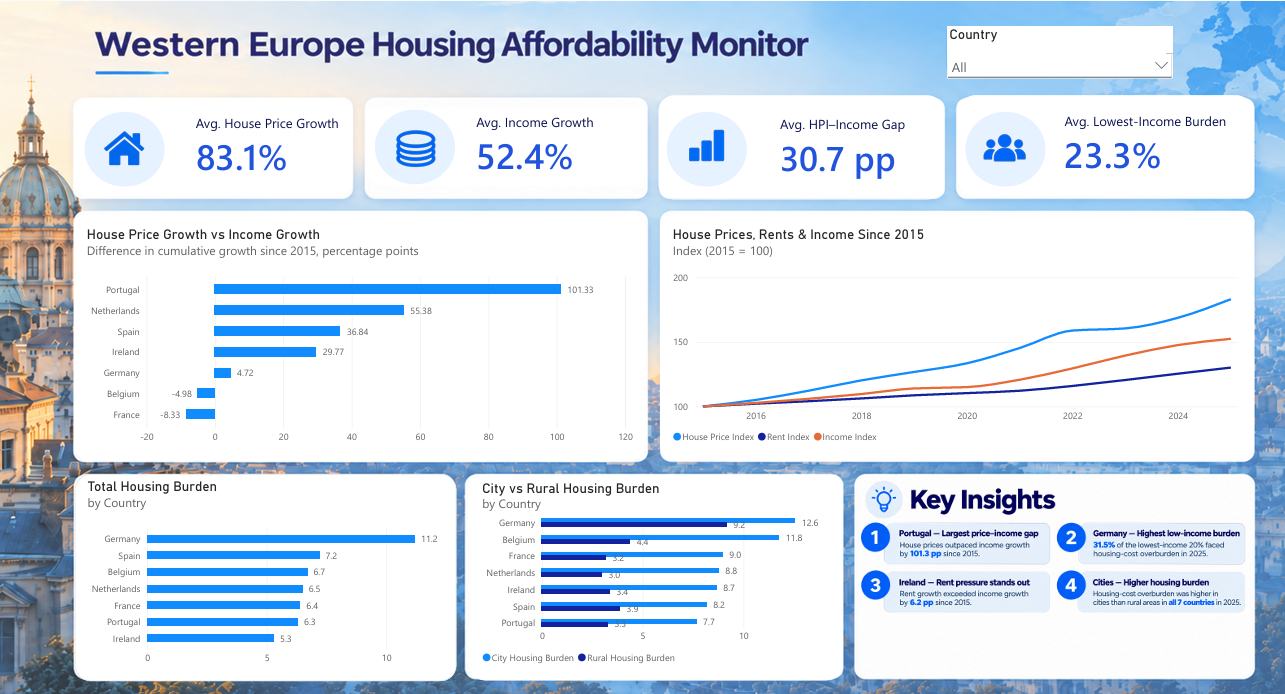

The dashboard page shown, as its layout file describes it:
{"tool":"powerbi","page":{"name":"Western Europe Housing Affordability Monitor","canvas":[1920,1080],"ordinal":0},"visuals":[{"type":"slicer","fields":{"Values":["Dim Country.Country"]},"box":[1360,141,307.6,63.8],"z":0},{"type":"clusteredBarChart","title":"House Price Growth vs Income Growth","fields":{"Category":["Dim Country.Country"],"Y":["Affordability Annual.HPI-Income Gap"]},"box":[210,358.8,756.2,323.8],"z":1000},{"type":"cardVisual","title":"   ","fields":{"Data":["Affordability Annual.Income Growth Display"]},"box":[596.5,205.3,370.6,115.9],"z":2000},{"type":"cardVisual","fields":{"Data":["Affordability Annual.HPI-Income Gap Display"]},"box":[982.8,201.2,377.2,138.1],"z":3000},{"type":"cardVisual","fields":{"Data":["Affordability Annual.Lowest 20% Burden Display"]},"box":[1378.8,201.2,391.2,132.5],"z":4000},{"type":"lineChart","title":"House Prices, Rents & Income Since 2015","fields":{"Category":["Dim Year.Year"],"Y":["Avg(Affordability Annual.hpi_2015_100)","Avg(Affordability Annual.rent_2015_100)","Avg(Affordability Annual.income_2015_100)"]},"box":[985,358.8,785,323.8],"z":5000},{"type":"clusteredBarChart","fields":{"Category":["Dim Country.Country"],"Y":["Burden by Income.Total Housing Burden"]},"box":[211.1,702.2,504.4,273.3],"z":6000},{"type":"clusteredBarChart","title":"City vs Rural Housing Burden","fields":{"Category":["Dim Country.Country"],"Y":["Burden by Urbanisation.City Housing Burden","Burden by Urbanisation.Rural Housing Burden"]},"box":[732.5,702.5,493.8,272.5],"z":7000},{"type":"cardVisual","fields":{"Data":["Burden by Income.HPI Growth Display"]},"box":[210,205,368.8,128.8],"z":8000},{"type":"shape","box":[223.8,222.5,105.8,99.2],"z":9000},{"type":"image","box":[223.8,236.2,105.7,64.3],"z":10000},{"type":"shape","box":[608.3,220,105.8,99.2],"z":11000},{"type":"image","box":[625.6,236.7,73.3,64.4],"z":12000},{"type":"shape","box":[993.8,222.5,105.8,99.2],"z":13000},{"type":"image","box":[1018.8,220,55.6,94.4],"z":14000},{"type":"shape","box":[1388.8,222.5,105.8,99.2],"z":15000},{"type":"image","box":[1406.2,220,70,97.5],"z":16000},{"type":"textbox","box":[134,12,419,150],"z":17000},{"type":"textbox","title":"Country","box":[1364.5,110,298.2,37.3],"z":18000},{"type":"textbox","box":[1252,716,518,54],"z":19000},{"type":"textbox","box":[781.7,520,265,81.7],"z":20000},{"type":"image","box":[1237.8,620,531.1,340],"z":21000}]}

Visuals, with their boxes on the page's 1920x1080 design canvas (x1, y1, x2, y2). These are canvas units, not pixel positions in the 1285x694 screenshot, which may show the page scaled, cropped or inside an application window:
slicer - Dim Country.Country: crop(1360, 141, 1668, 205)
"House Price Growth vs Income Growth" clusteredBarChart: crop(210, 359, 966, 683)
"   " cardVisual: crop(596, 205, 967, 321)
cardVisual - Affordability Annual.HPI-Income Gap Display: crop(983, 201, 1360, 339)
cardVisual - Affordability Annual.Lowest 20% Burden Display: crop(1379, 201, 1770, 334)
"House Prices, Rents & Income Since 2015" lineChart: crop(985, 359, 1770, 683)
clusteredBarChart - Dim Country.Country x Burden by Income.Total Housing Burden: crop(211, 702, 716, 976)
"City vs Rural Housing Burden" clusteredBarChart: crop(732, 702, 1226, 975)
cardVisual - Burden by Income.HPI Growth Display: crop(210, 205, 579, 334)
shape: crop(224, 222, 330, 322)
image: crop(224, 236, 330, 300)
shape: crop(608, 220, 714, 319)
image: crop(626, 237, 699, 301)
shape: crop(994, 222, 1100, 322)
image: crop(1019, 220, 1074, 314)
shape: crop(1389, 222, 1495, 322)
image: crop(1406, 220, 1476, 318)
textbox: crop(134, 12, 553, 162)
"Country" textbox: crop(1364, 110, 1663, 147)
textbox: crop(1252, 716, 1770, 770)
textbox: crop(782, 520, 1047, 602)
image: crop(1238, 620, 1769, 960)
